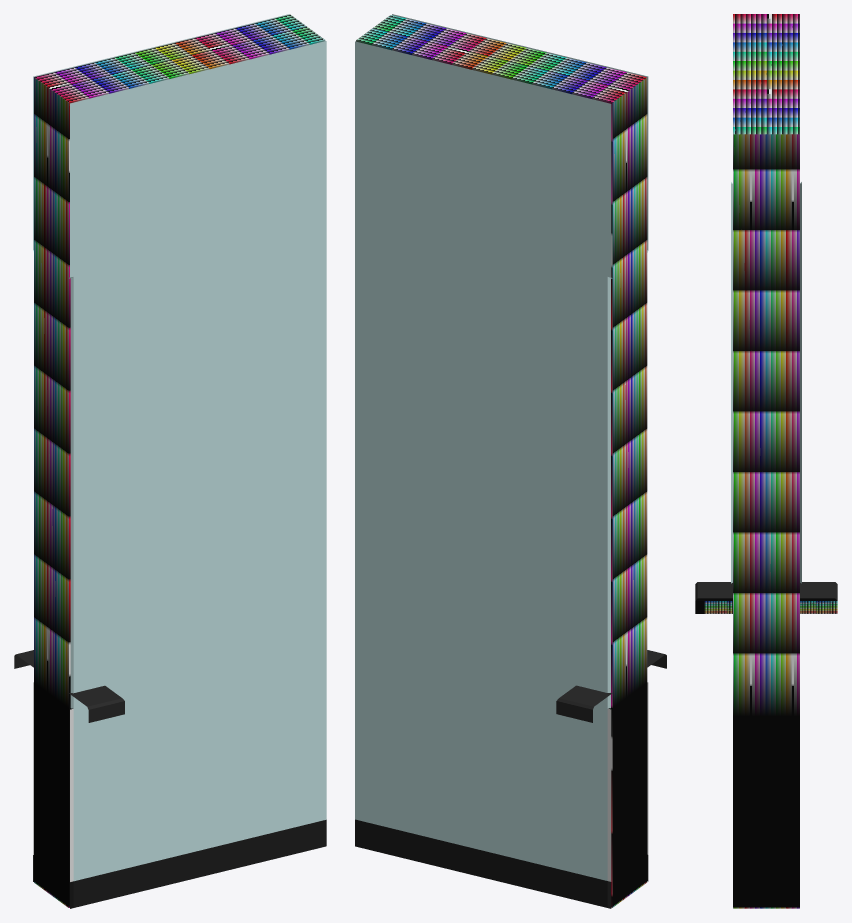
Rendered from windowWall_rigth.fbx.
3 renders of one model, left to right at view 1: azimuth 30°, elevation 25°; view 2: azimuth 150°, elevation 25°; view 3: azimuth 270°, elevation 25°, orthographic. The views are drawn at different scales.
Visible parts, largest first — view 1: windowWall_rigth, trigger; view 2: windowWall_rigth, trigger; view 3: trigger, windowWall_rigth.
Part boxes in pixels (<box>): windowWall_rigth: <box>14,14,326,908</box>; trigger: <box>34,14,325,907</box>; windowWall_rigth: <box>355,14,666,908</box>; trigger: <box>356,15,647,907</box>; trigger: <box>733,14,799,908</box>; windowWall_rigth: <box>695,182,837,613</box>.
Size of what is drawn, in the model's own units: 100 by 300 by 50.
